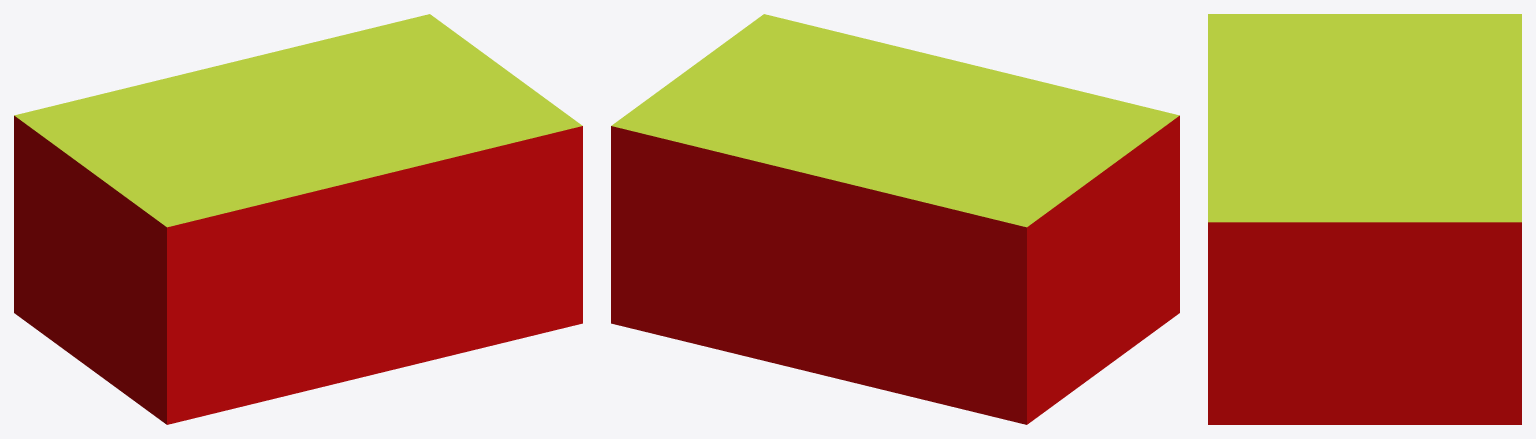
File: room.fbx
3 renders of one model, left to right at view 1: azimuth 30°, elevation 25°; view 2: azimuth 150°, elevation 25°; view 3: azimuth 270°, elevation 25°, orthographic. The views are drawn at different scales.
Visible parts, largest first — view 1: laft wall, Roof, backwall; view 2: right wall, Roof, backwall; view 3: Roof, forward wall.
Boxes of the visible parts, box(x1,y1,x2,y2) form: laft wall: box(167, 126, 582, 424); Roof: box(14, 14, 582, 227); backwall: box(14, 115, 166, 424); right wall: box(611, 126, 1026, 424); Roof: box(611, 14, 1179, 227); backwall: box(1027, 115, 1179, 424); Roof: box(1208, 14, 1521, 222); forward wall: box(1208, 222, 1521, 424).
Bounding box in the file's own units: 849 × 386 × 541.
